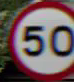Speed limit: (7, 3, 71, 73)
